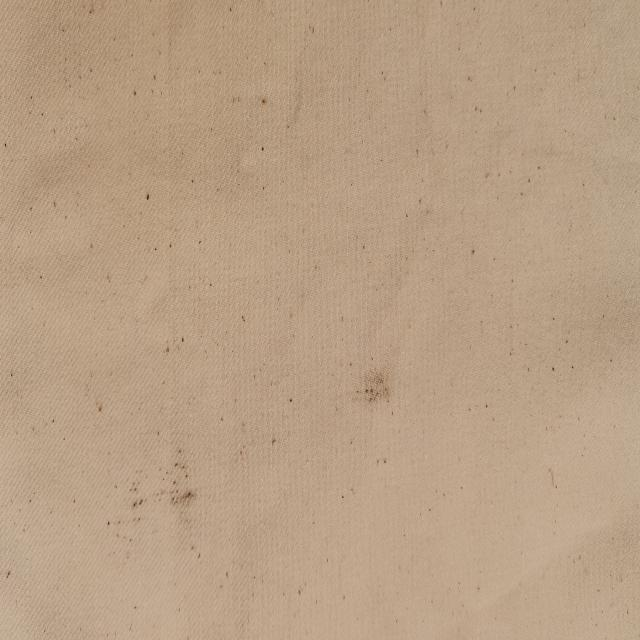taaaches: (360, 352, 398, 416), (164, 448, 198, 516), (126, 463, 152, 532)
